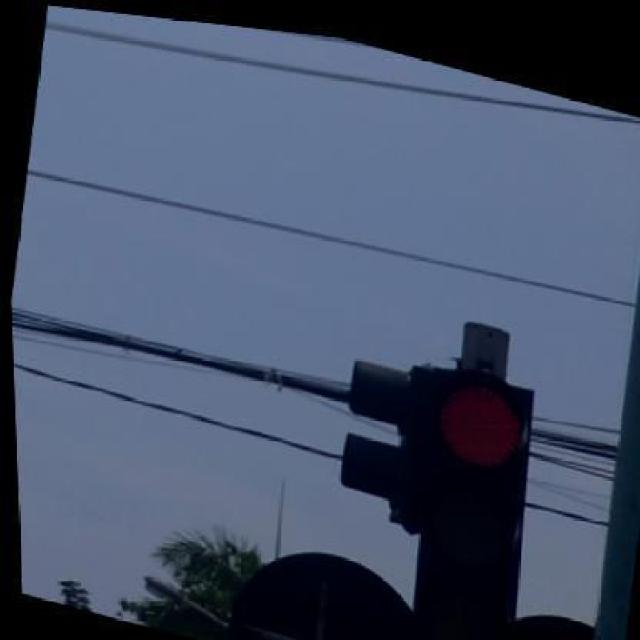Traffic Light -Red-: (398, 355, 554, 640)
